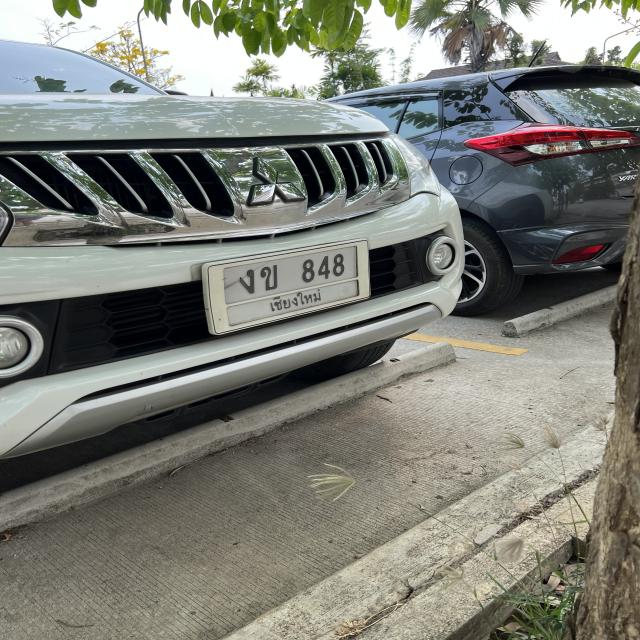license_plate: (202, 235, 371, 338)
